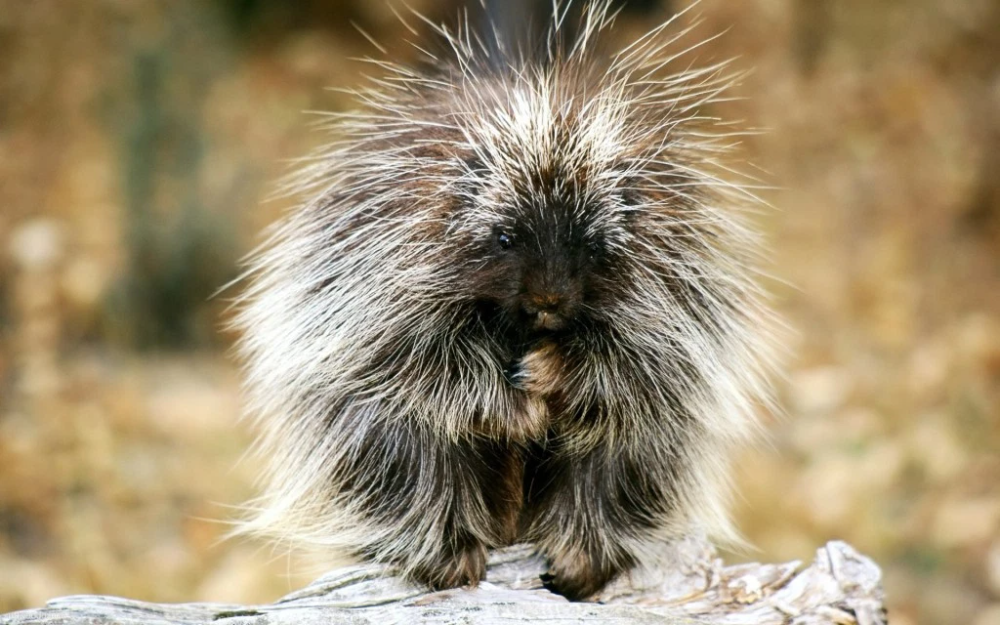porcupine: (230, 3, 782, 611)
